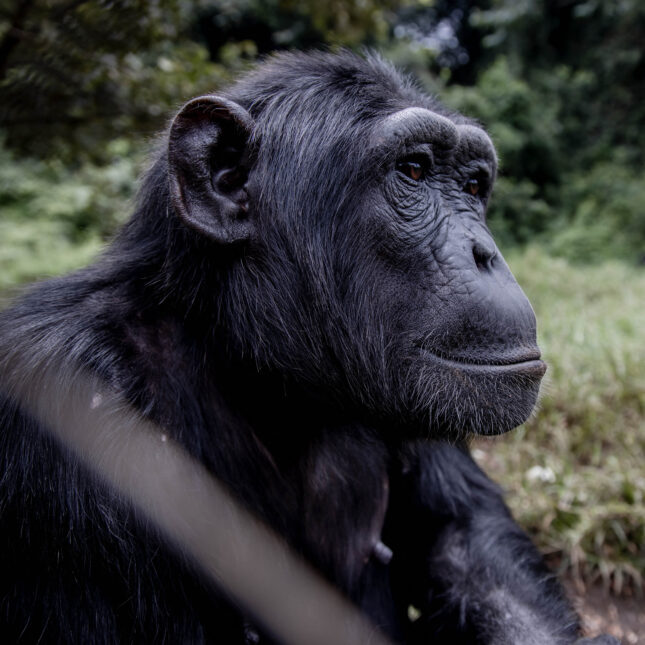Champanze: (116, 29, 550, 635)
